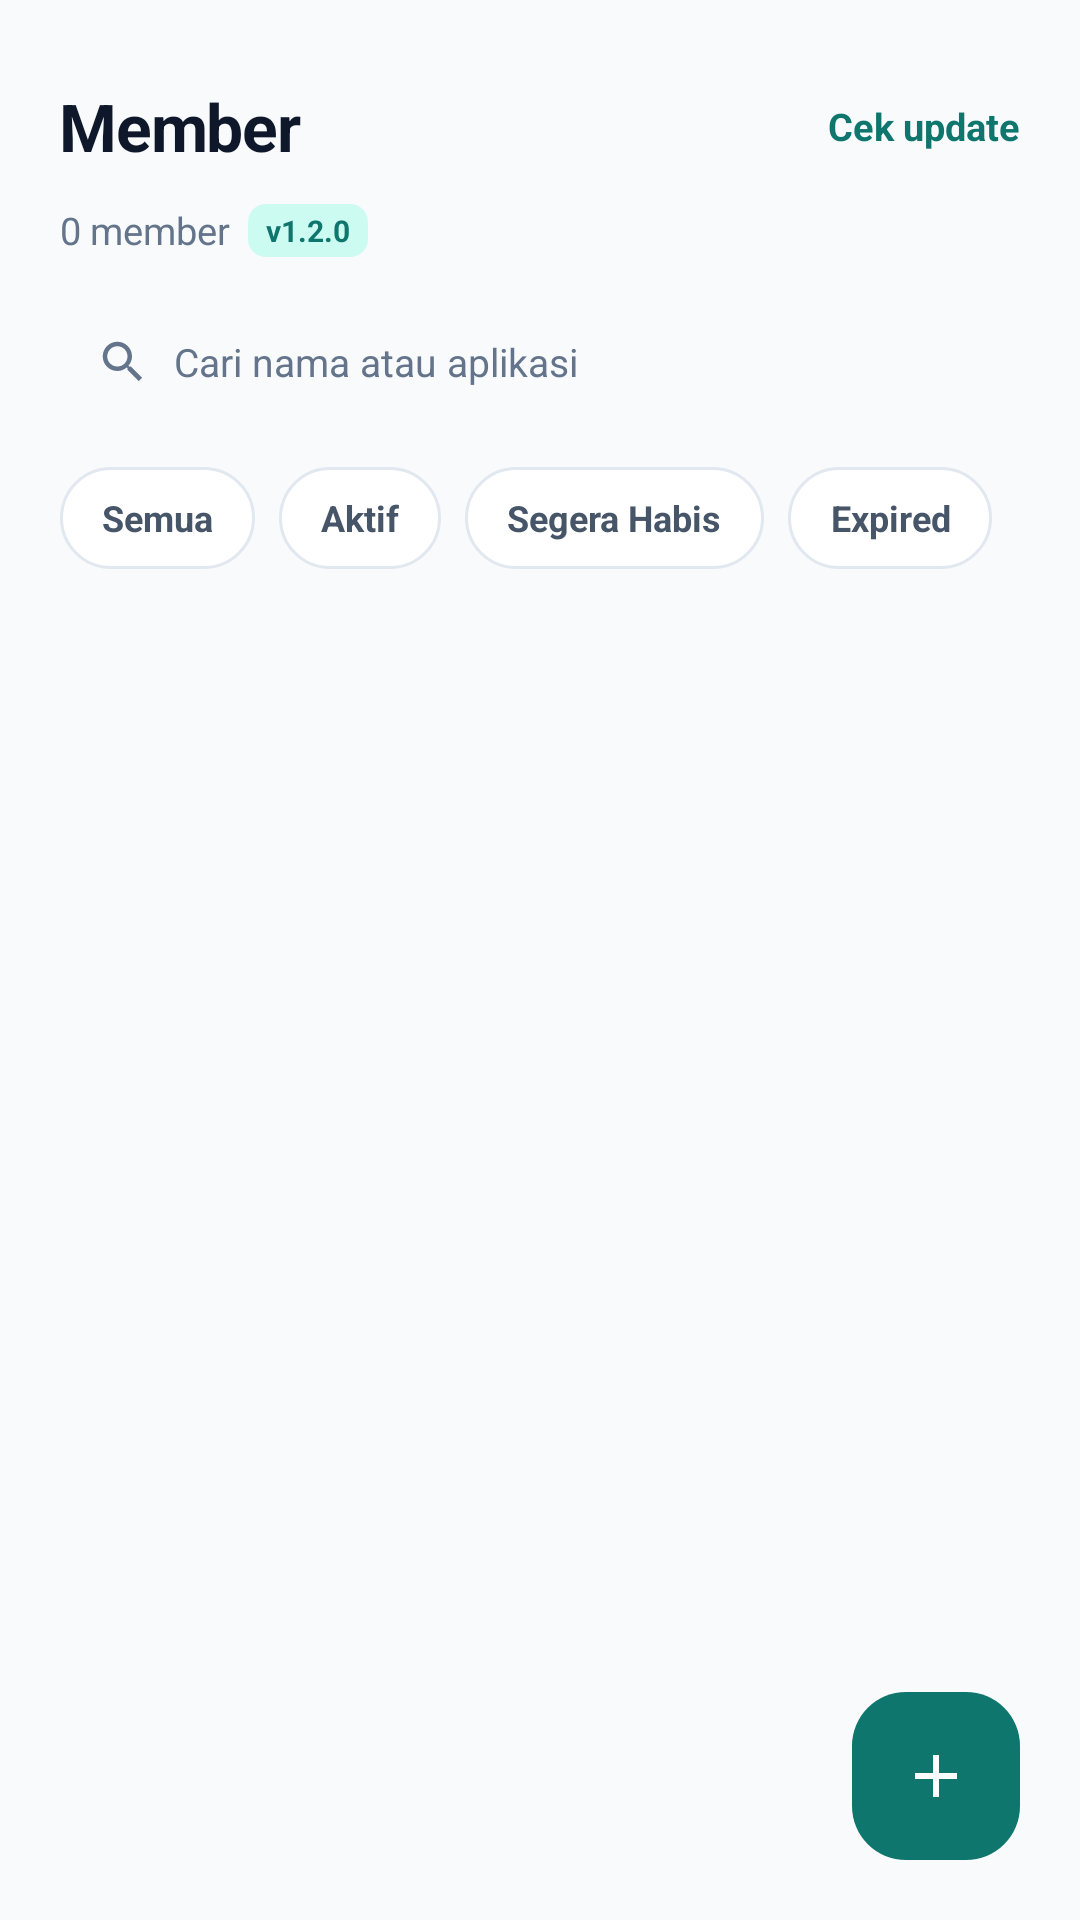

Point at icon controls on the screen. Image size 1080×1920, points as (x=x, y=y).
search: (x=122, y=361)
Tambah member: (x=936, y=1776)
